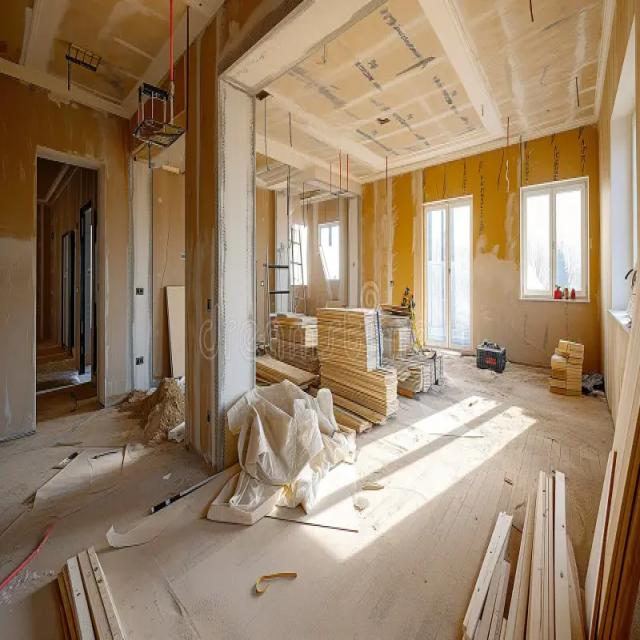Interior Finishing and Carpentry: (25, 19, 564, 640)
